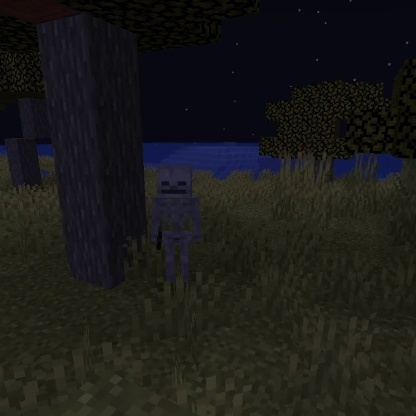skeleton: (146, 161, 206, 291)
